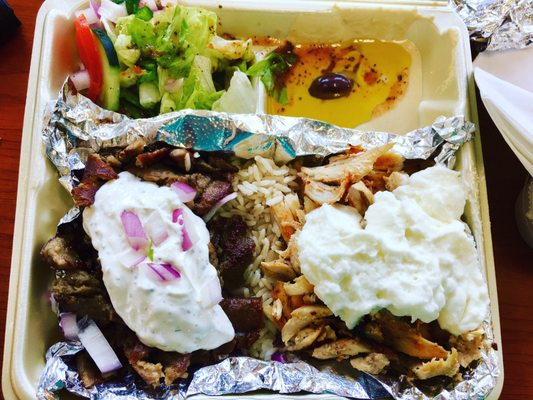sushi: (3, 1, 491, 400)
